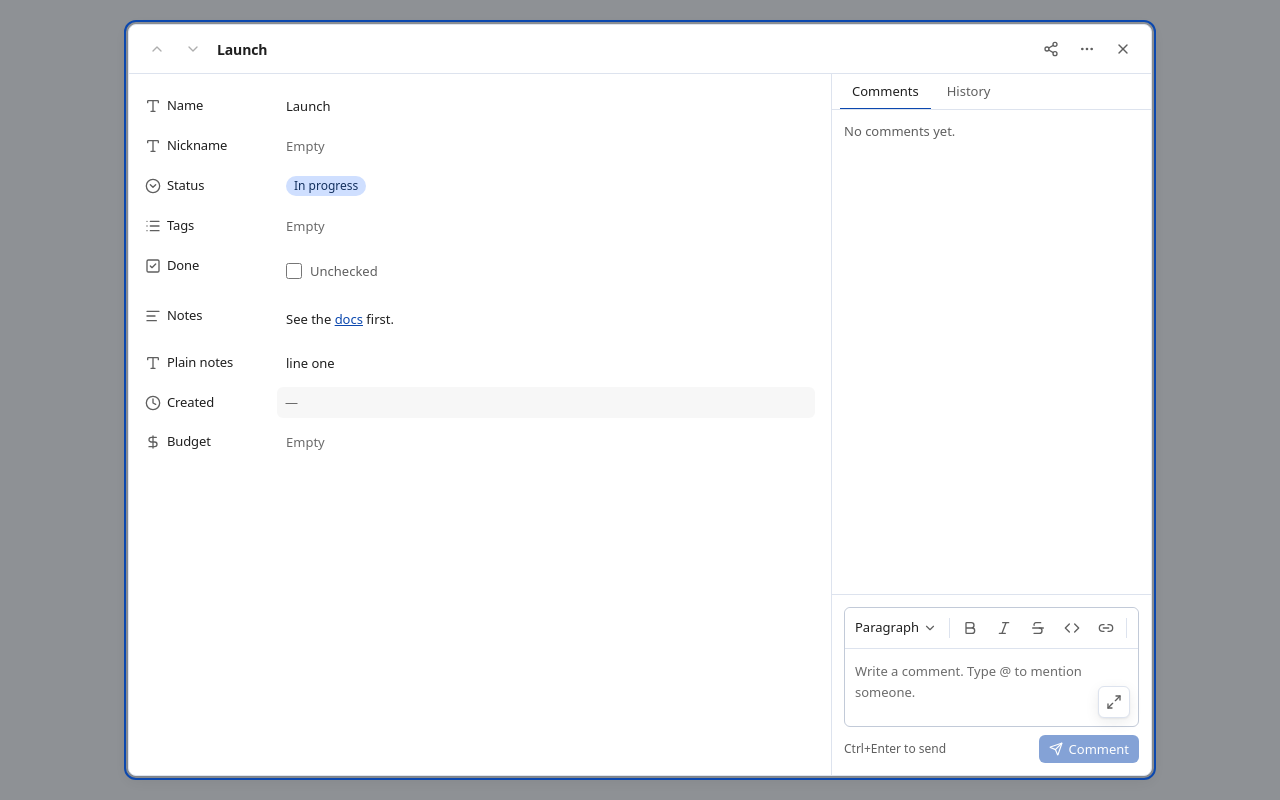
ExpandedRecord: view mode › commits when another field is clicked, and that one starts its edit
The width and height of the screenshot is (1280, 800).
Click the button with aria-label "Edit Name": click(308, 106) [286,97,330,115]
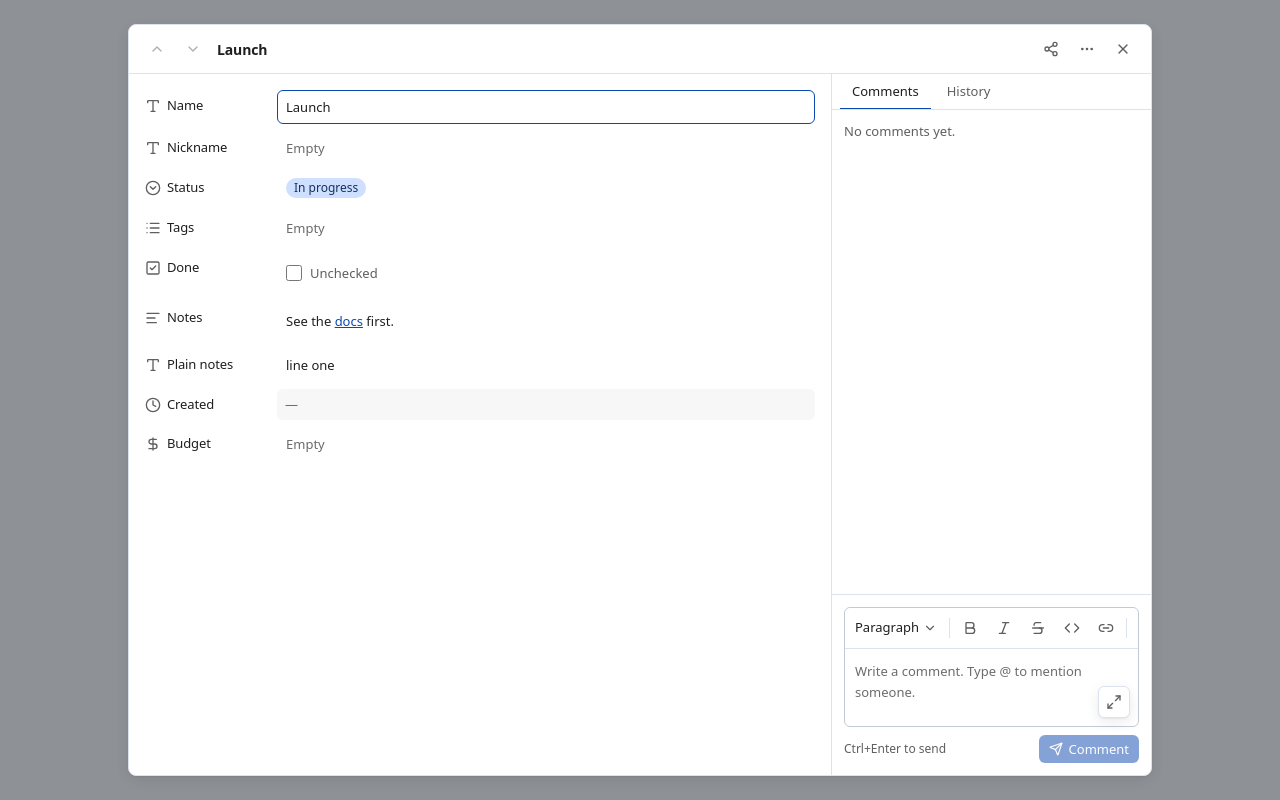
In the field labelled "Name": (546, 107) [278,91,814,123], type "!"
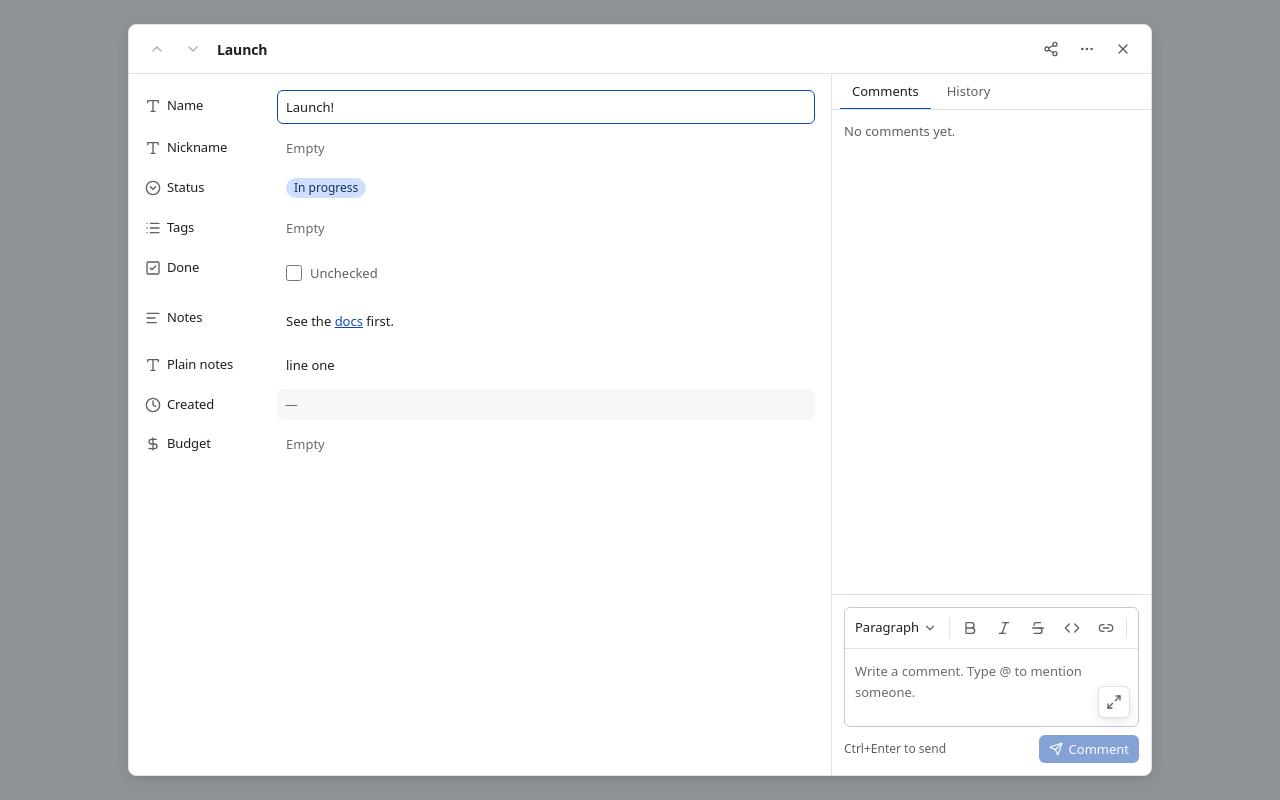
Click the button with aria-label "Edit Plain notes": click(310, 365) [286,356,335,374]
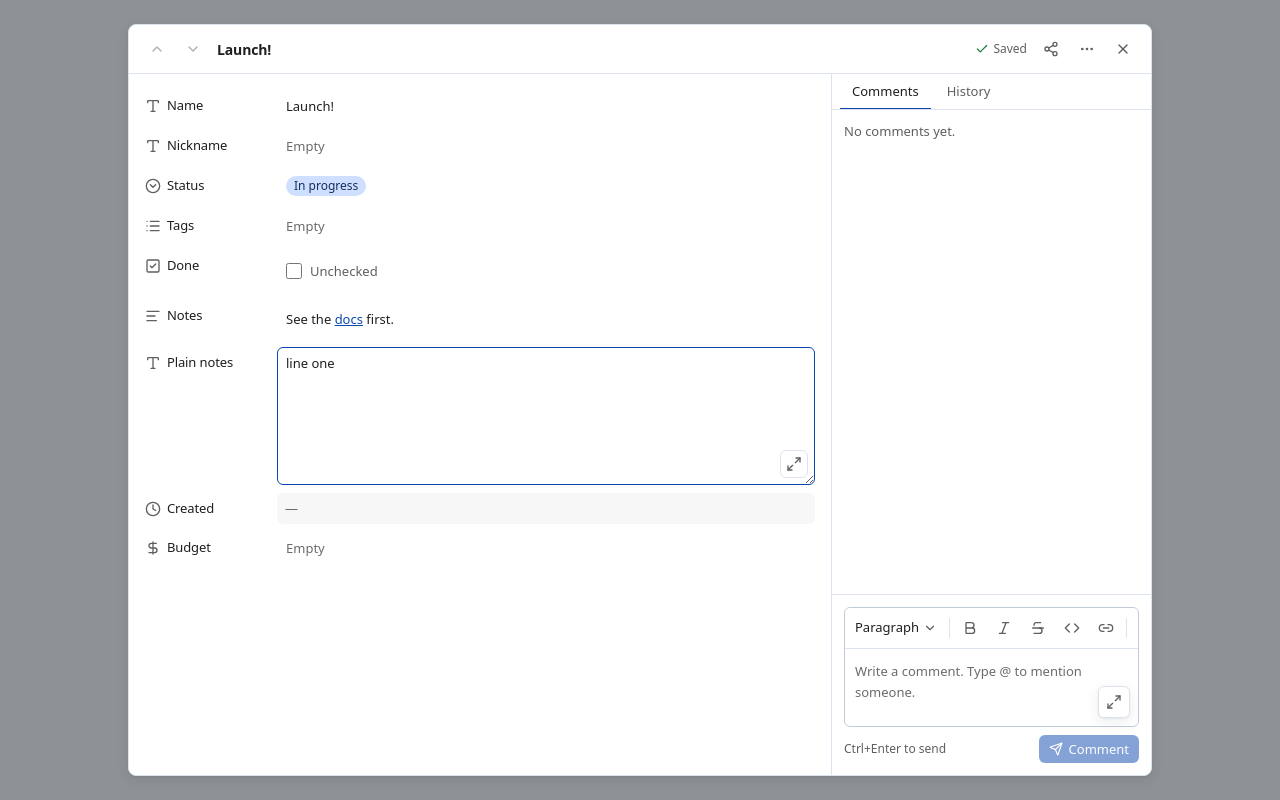
Expected: the text "Launch!" is shown, [286,97,334,115]
